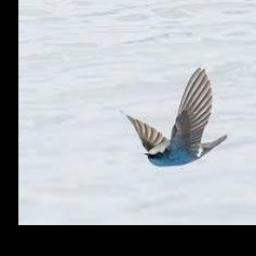Swallow: (122, 69, 229, 168)
